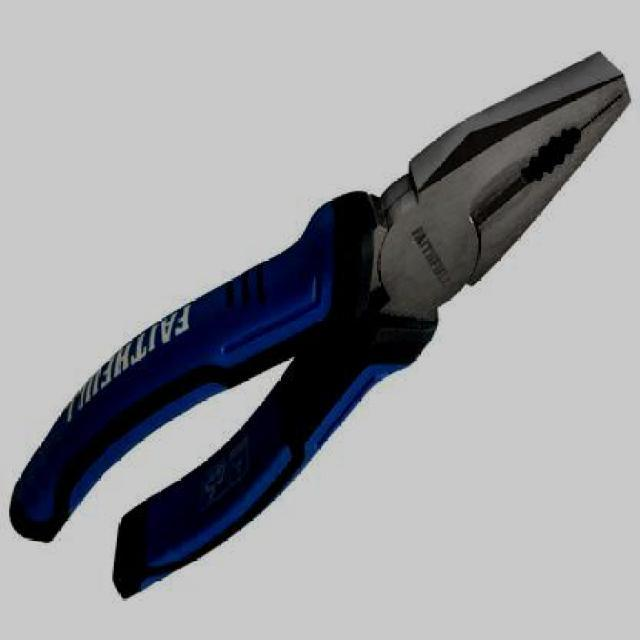pliers: (0, 45, 631, 608)
